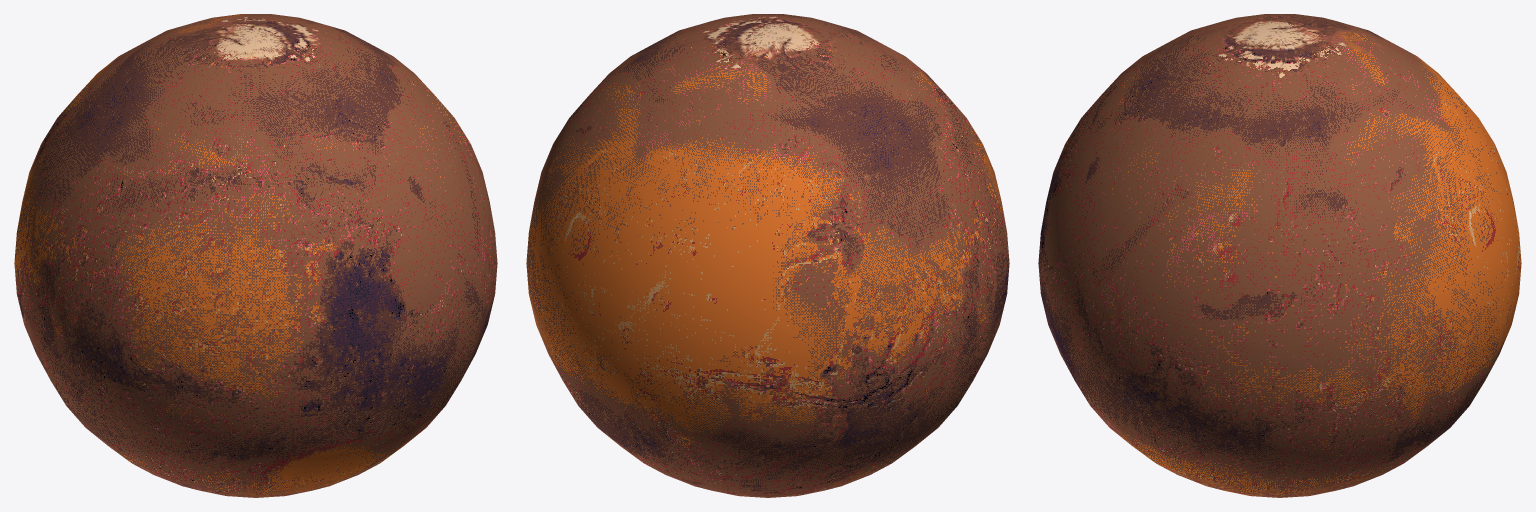
File: mars.glb
The picture shows the model from 3 angles, left to right: view 1: azimuth 30°, elevation 25°; view 2: azimuth 150°, elevation 25°; view 3: azimuth 270°, elevation 25°; orthographic projection.
Visible parts, largest first — view 1: pSphere4; view 2: pSphere4; view 3: pSphere4.
Boxes of the visible parts, x1=… form: pSphere4: x1=14, y1=14, x2=497, y2=497; pSphere4: x1=526, y1=14, x2=1009, y2=497; pSphere4: x1=1038, y1=14, x2=1521, y2=497.
Size of the model in its own units: 1.17 by 1.17 by 1.17.
1 material, 1 textured.
